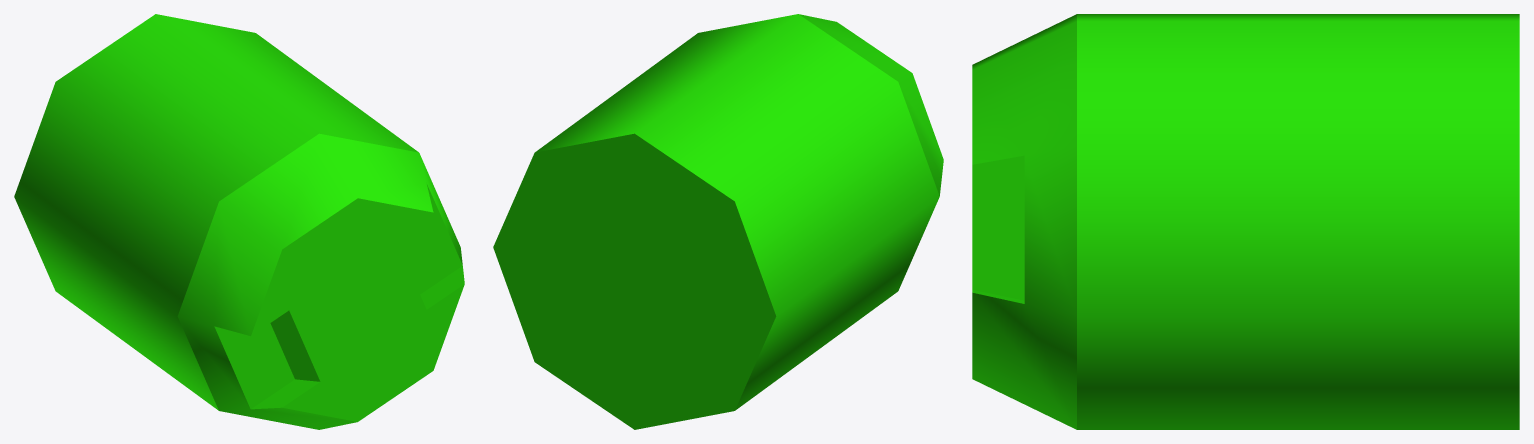
Rendered from Warhead.fbx.
3 views of the same model, side by side, from view 1: azimuth 30°, elevation 25°; view 2: azimuth 150°, elevation 25°; view 3: azimuth 270°, elevation 25° (orthographic). The views are drawn at different scales.
Visible parts, largest first — view 1: Warhead; view 2: Warhead; view 3: Warhead.
Boxes of the visible parts, x1,y1,x2,y2 form: Warhead: (14,14,464,429); Warhead: (493,14,943,429); Warhead: (972,14,1519,429).
Size of the model in its own units: 0.111 by 0.111 by 0.1373.
